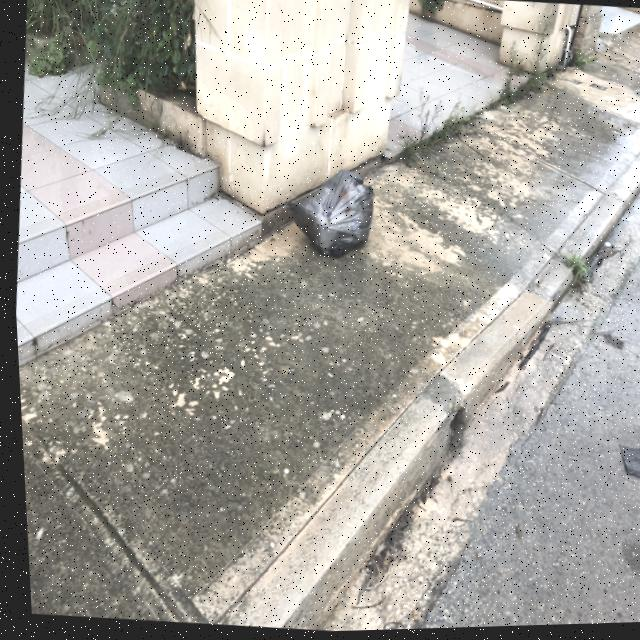Mixed Waste -Black Bag-: (280, 168, 378, 267)
